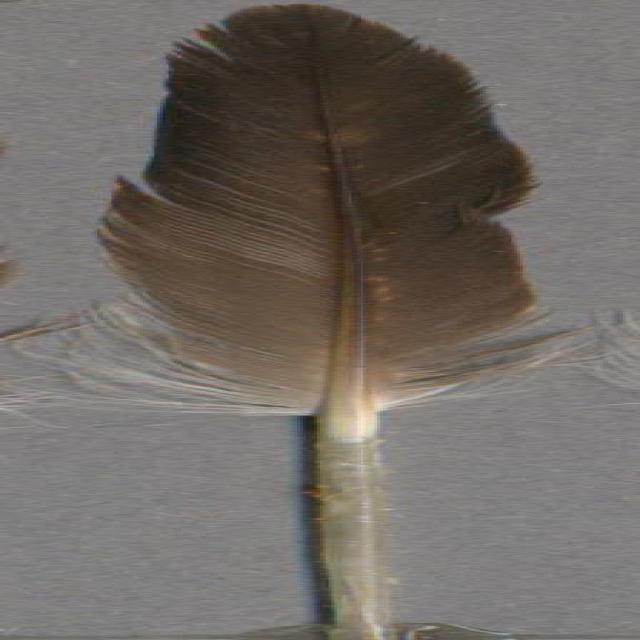feather: (35, 1, 621, 640)
